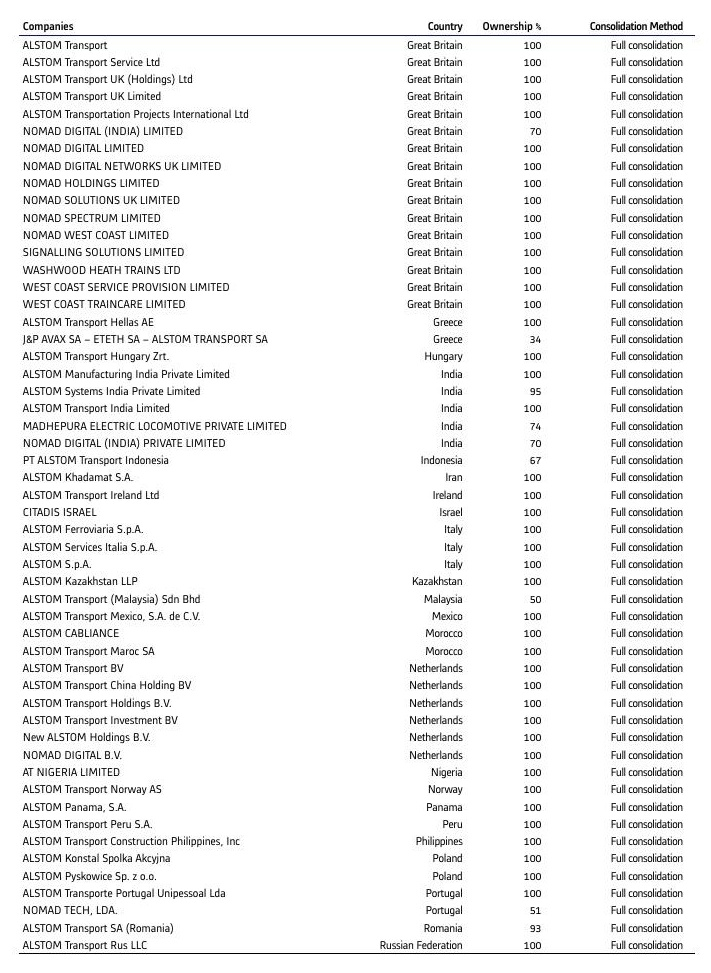table: (0, 0, 711, 973)
